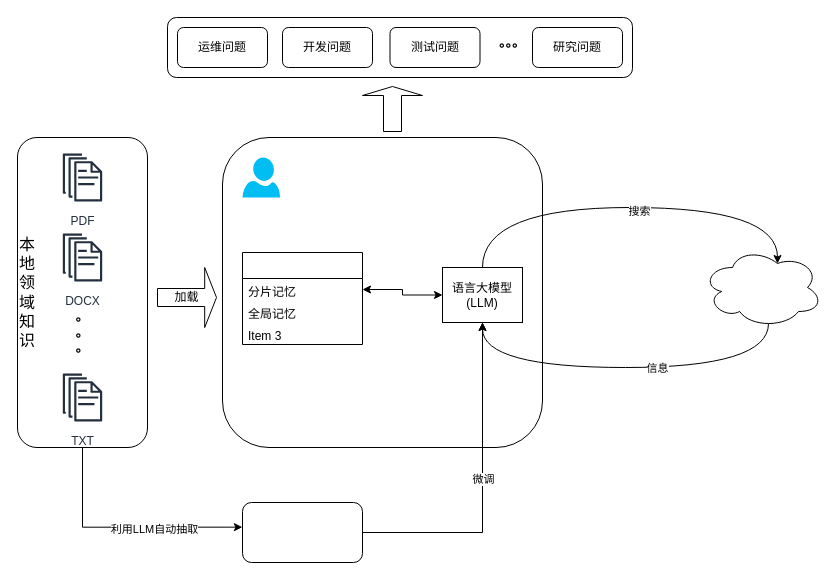
Image size: 840x580. Some labels were removed from this diagram. Here are the shapes that lost their labels. From the top down, the box of each, then its label:
(362, 86, 422, 132): 解答
(242, 157, 280, 197): 专家
(242, 252, 362, 344): 记忆单元
(702, 246, 822, 328): 数字信息世界
(242, 502, 362, 562): 数据集
